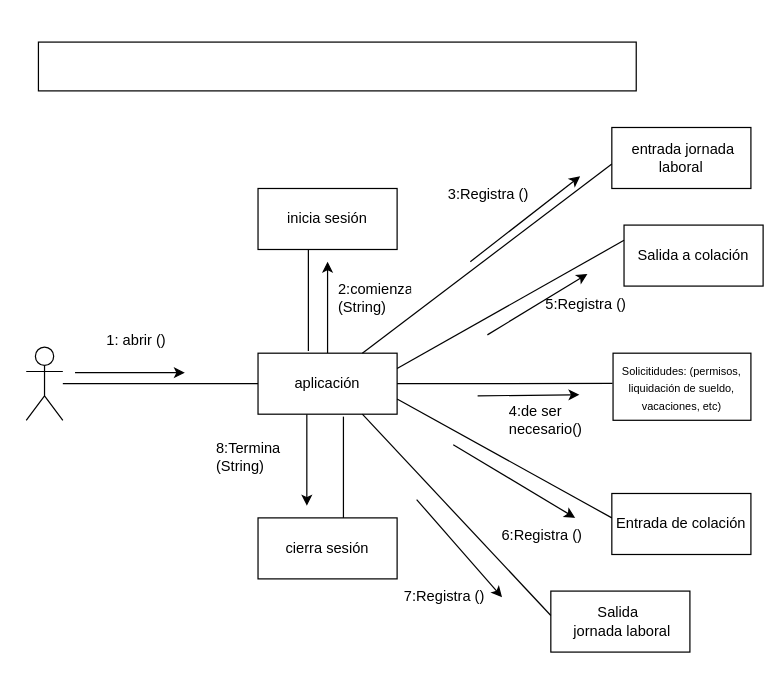
The diagram is 784 pixels wide and 673 high, and some of its shapes have lost their labels. Each missing label, with the centre of its shape:
Diagrama de colaboración usuario.: point (336, 66)
usuario: point (44, 383)
